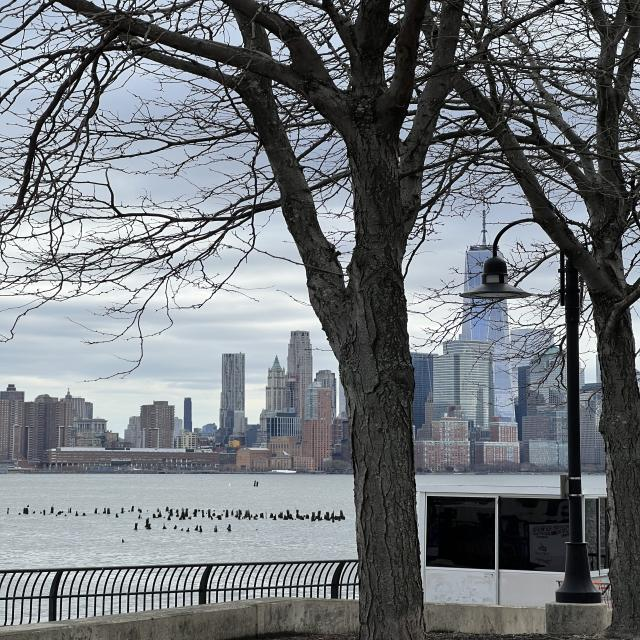WTC: (461, 213, 505, 340)
